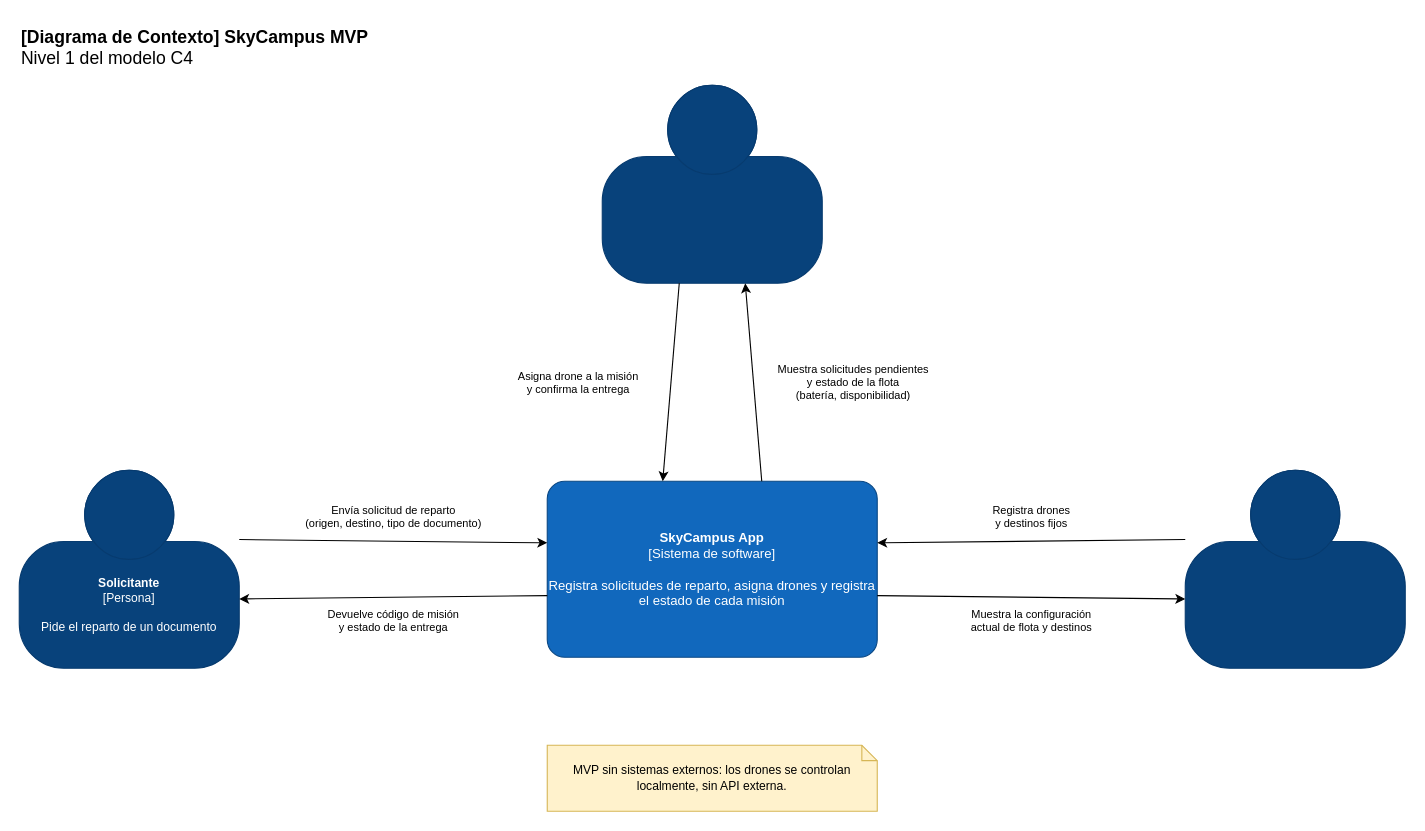
The diagram is 1425 pixels wide and 831 high, and some of its shapes have lost their labels. The centre of each missing label's shape, as x and y in pixels:
"Admin [Persona] Configura destinos y flota" belongs at (1294,568).
"Operador de drones [Persona] Asigna misiones y monitorea la flota" belongs at (711,183).
